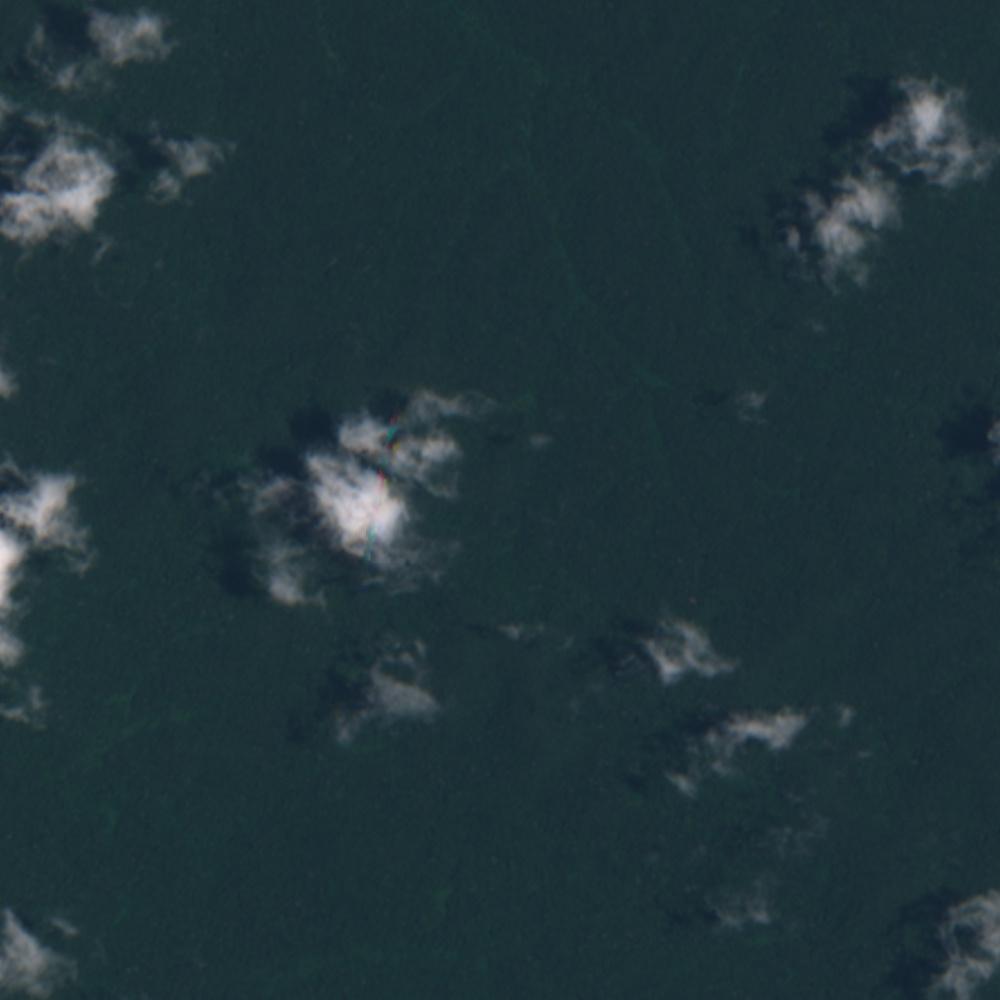illegal: (848, 713, 958, 907), (600, 322, 689, 510), (682, 589, 717, 627)
